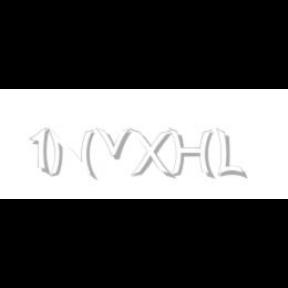1: (29, 128, 51, 176)
H: (169, 128, 215, 180)
L: (216, 128, 244, 180)
N: (46, 128, 96, 180)
X: (129, 128, 173, 180)
v: (95, 128, 135, 160)
